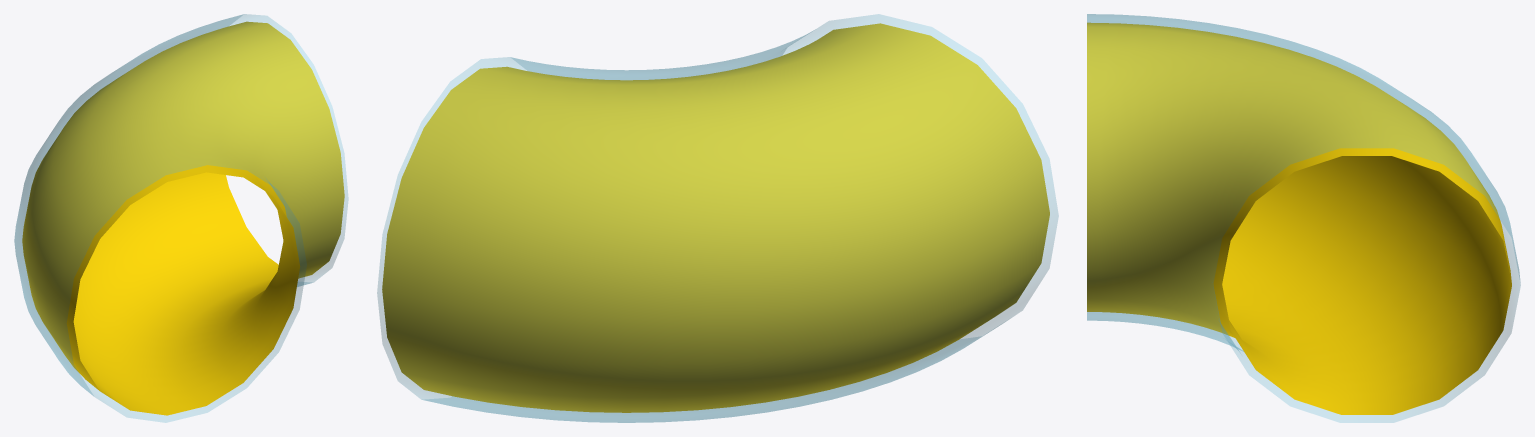
File: 冷冻回-弯头.glb
3 views of the same model, side by side, from view 1: azimuth 30°, elevation 25°; view 2: azimuth 150°, elevation 25°; view 3: azimuth 270°, elevation 25° (orthographic). The views are drawn at different scales.
Visible parts, largest first — view 1: 贴图, Box001; view 2: Box001, 贴图; view 3: 贴图, Box001.
Part boxes in pixels (<box>): 贴图: <box>22,21,344,415</box>; Box001: <box>14,14,348,422</box>; Box001: <box>377,14,1058,422</box>; 贴图: <box>382,23,1049,412</box>; 贴图: <box>1087,22,1511,414</box>; Box001: <box>1087,14,1520,422</box>.
Size of the model in its own units: 4.93 by 3.45 by 4.93.
